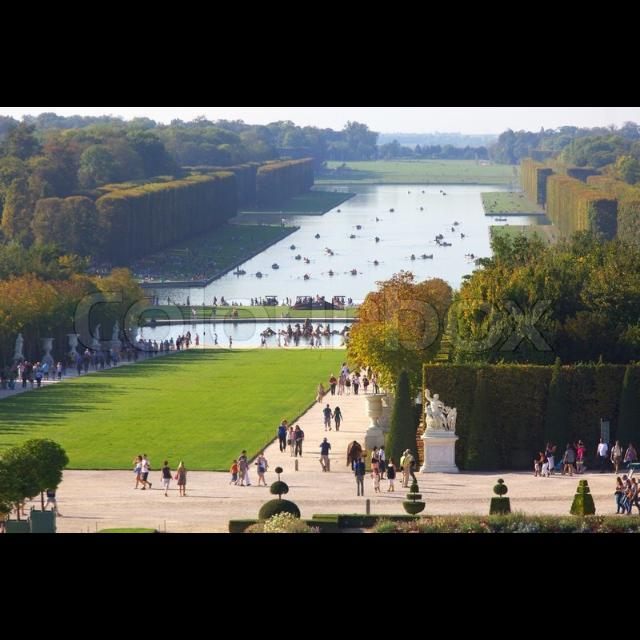head: (75, 350, 85, 378), (600, 438, 606, 446), (568, 444, 574, 452), (629, 444, 635, 451), (49, 478, 56, 484), (617, 478, 623, 484), (622, 476, 628, 482), (632, 479, 638, 485), (626, 480, 632, 486), (577, 444, 583, 450), (539, 452, 545, 458), (406, 449, 412, 455), (388, 459, 394, 465), (358, 458, 364, 464), (259, 452, 265, 458), (241, 456, 247, 462), (242, 451, 248, 457), (180, 462, 186, 468), (164, 462, 170, 468), (142, 455, 148, 461), (137, 456, 143, 462), (616, 442, 620, 448), (580, 440, 584, 446), (548, 442, 552, 448), (404, 452, 408, 458), (374, 469, 378, 475), (374, 446, 378, 452), (382, 446, 386, 452), (324, 439, 328, 445), (296, 426, 300, 432), (290, 427, 294, 433), (282, 421, 286, 427), (344, 362, 348, 368), (376, 374, 380, 380), (234, 461, 238, 465), (337, 408, 341, 412), (320, 384, 324, 388), (340, 373, 344, 377), (344, 363, 348, 367), (357, 375, 361, 379), (364, 376, 368, 380), (356, 367, 360, 371), (37, 363, 41, 367), (24, 369, 28, 373), (72, 352, 76, 356), (346, 377, 349, 381), (534, 462, 538, 464), (332, 375, 334, 379), (342, 372, 346, 374), (46, 363, 49, 365), (21, 364, 24, 366), (328, 406, 330, 408), (353, 376, 355, 378), (53, 365, 55, 367)
person: (39, 476, 65, 518), (398, 448, 419, 486), (572, 438, 592, 476), (398, 452, 418, 490), (235, 449, 253, 488), (594, 437, 612, 475), (253, 450, 271, 488), (159, 460, 177, 498), (352, 457, 368, 499), (608, 441, 626, 477), (138, 453, 154, 493), (174, 459, 190, 498), (620, 478, 636, 516), (317, 437, 333, 475), (132, 454, 148, 492), (623, 442, 639, 478), (374, 445, 390, 481), (276, 419, 292, 455), (613, 476, 627, 516), (618, 474, 632, 514), (570, 442, 586, 476), (560, 444, 576, 478), (534, 450, 552, 480), (384, 456, 398, 494), (544, 441, 558, 477), (369, 446, 383, 480), (292, 424, 306, 458), (235, 455, 249, 489), (322, 404, 336, 434), (286, 426, 298, 459), (369, 467, 383, 495), (331, 406, 345, 432), (229, 459, 241, 489), (338, 372, 352, 396), (34, 361, 44, 389), (75, 350, 85, 378), (316, 382, 328, 404), (328, 373, 338, 397), (17, 362, 27, 384), (339, 370, 348, 394), (353, 373, 362, 397), (353, 367, 363, 388), (341, 362, 351, 382), (42, 362, 52, 382), (362, 374, 371, 396), (374, 372, 382, 396), (533, 459, 543, 478), (350, 374, 358, 396), (21, 368, 29, 390), (70, 351, 78, 372), (344, 376, 352, 396), (342, 362, 350, 382), (50, 363, 58, 382)
